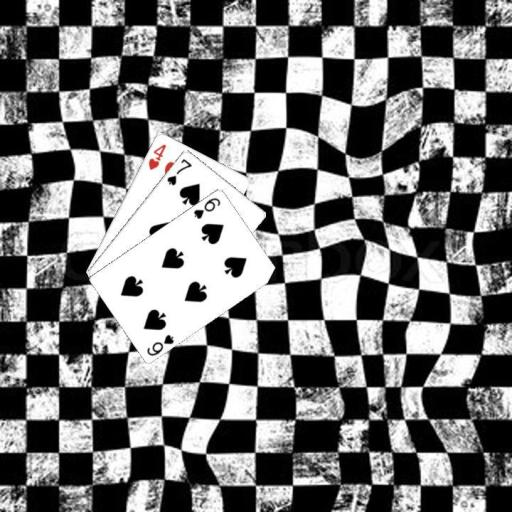4H: (145, 140, 168, 171)
6S: (190, 194, 222, 221), (144, 331, 176, 357)
7S: (164, 155, 194, 187)
